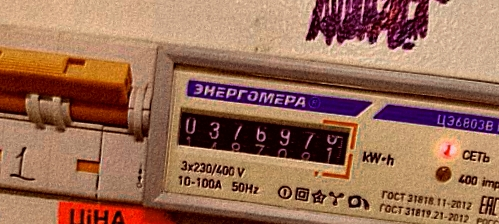0: (183, 114, 198, 136)
1: (323, 145, 336, 164)
3: (207, 119, 222, 140)
6: (254, 121, 269, 143)
7: (230, 119, 245, 142), (301, 128, 315, 151)
9: (277, 126, 291, 148)
screen: (167, 98, 363, 181)
